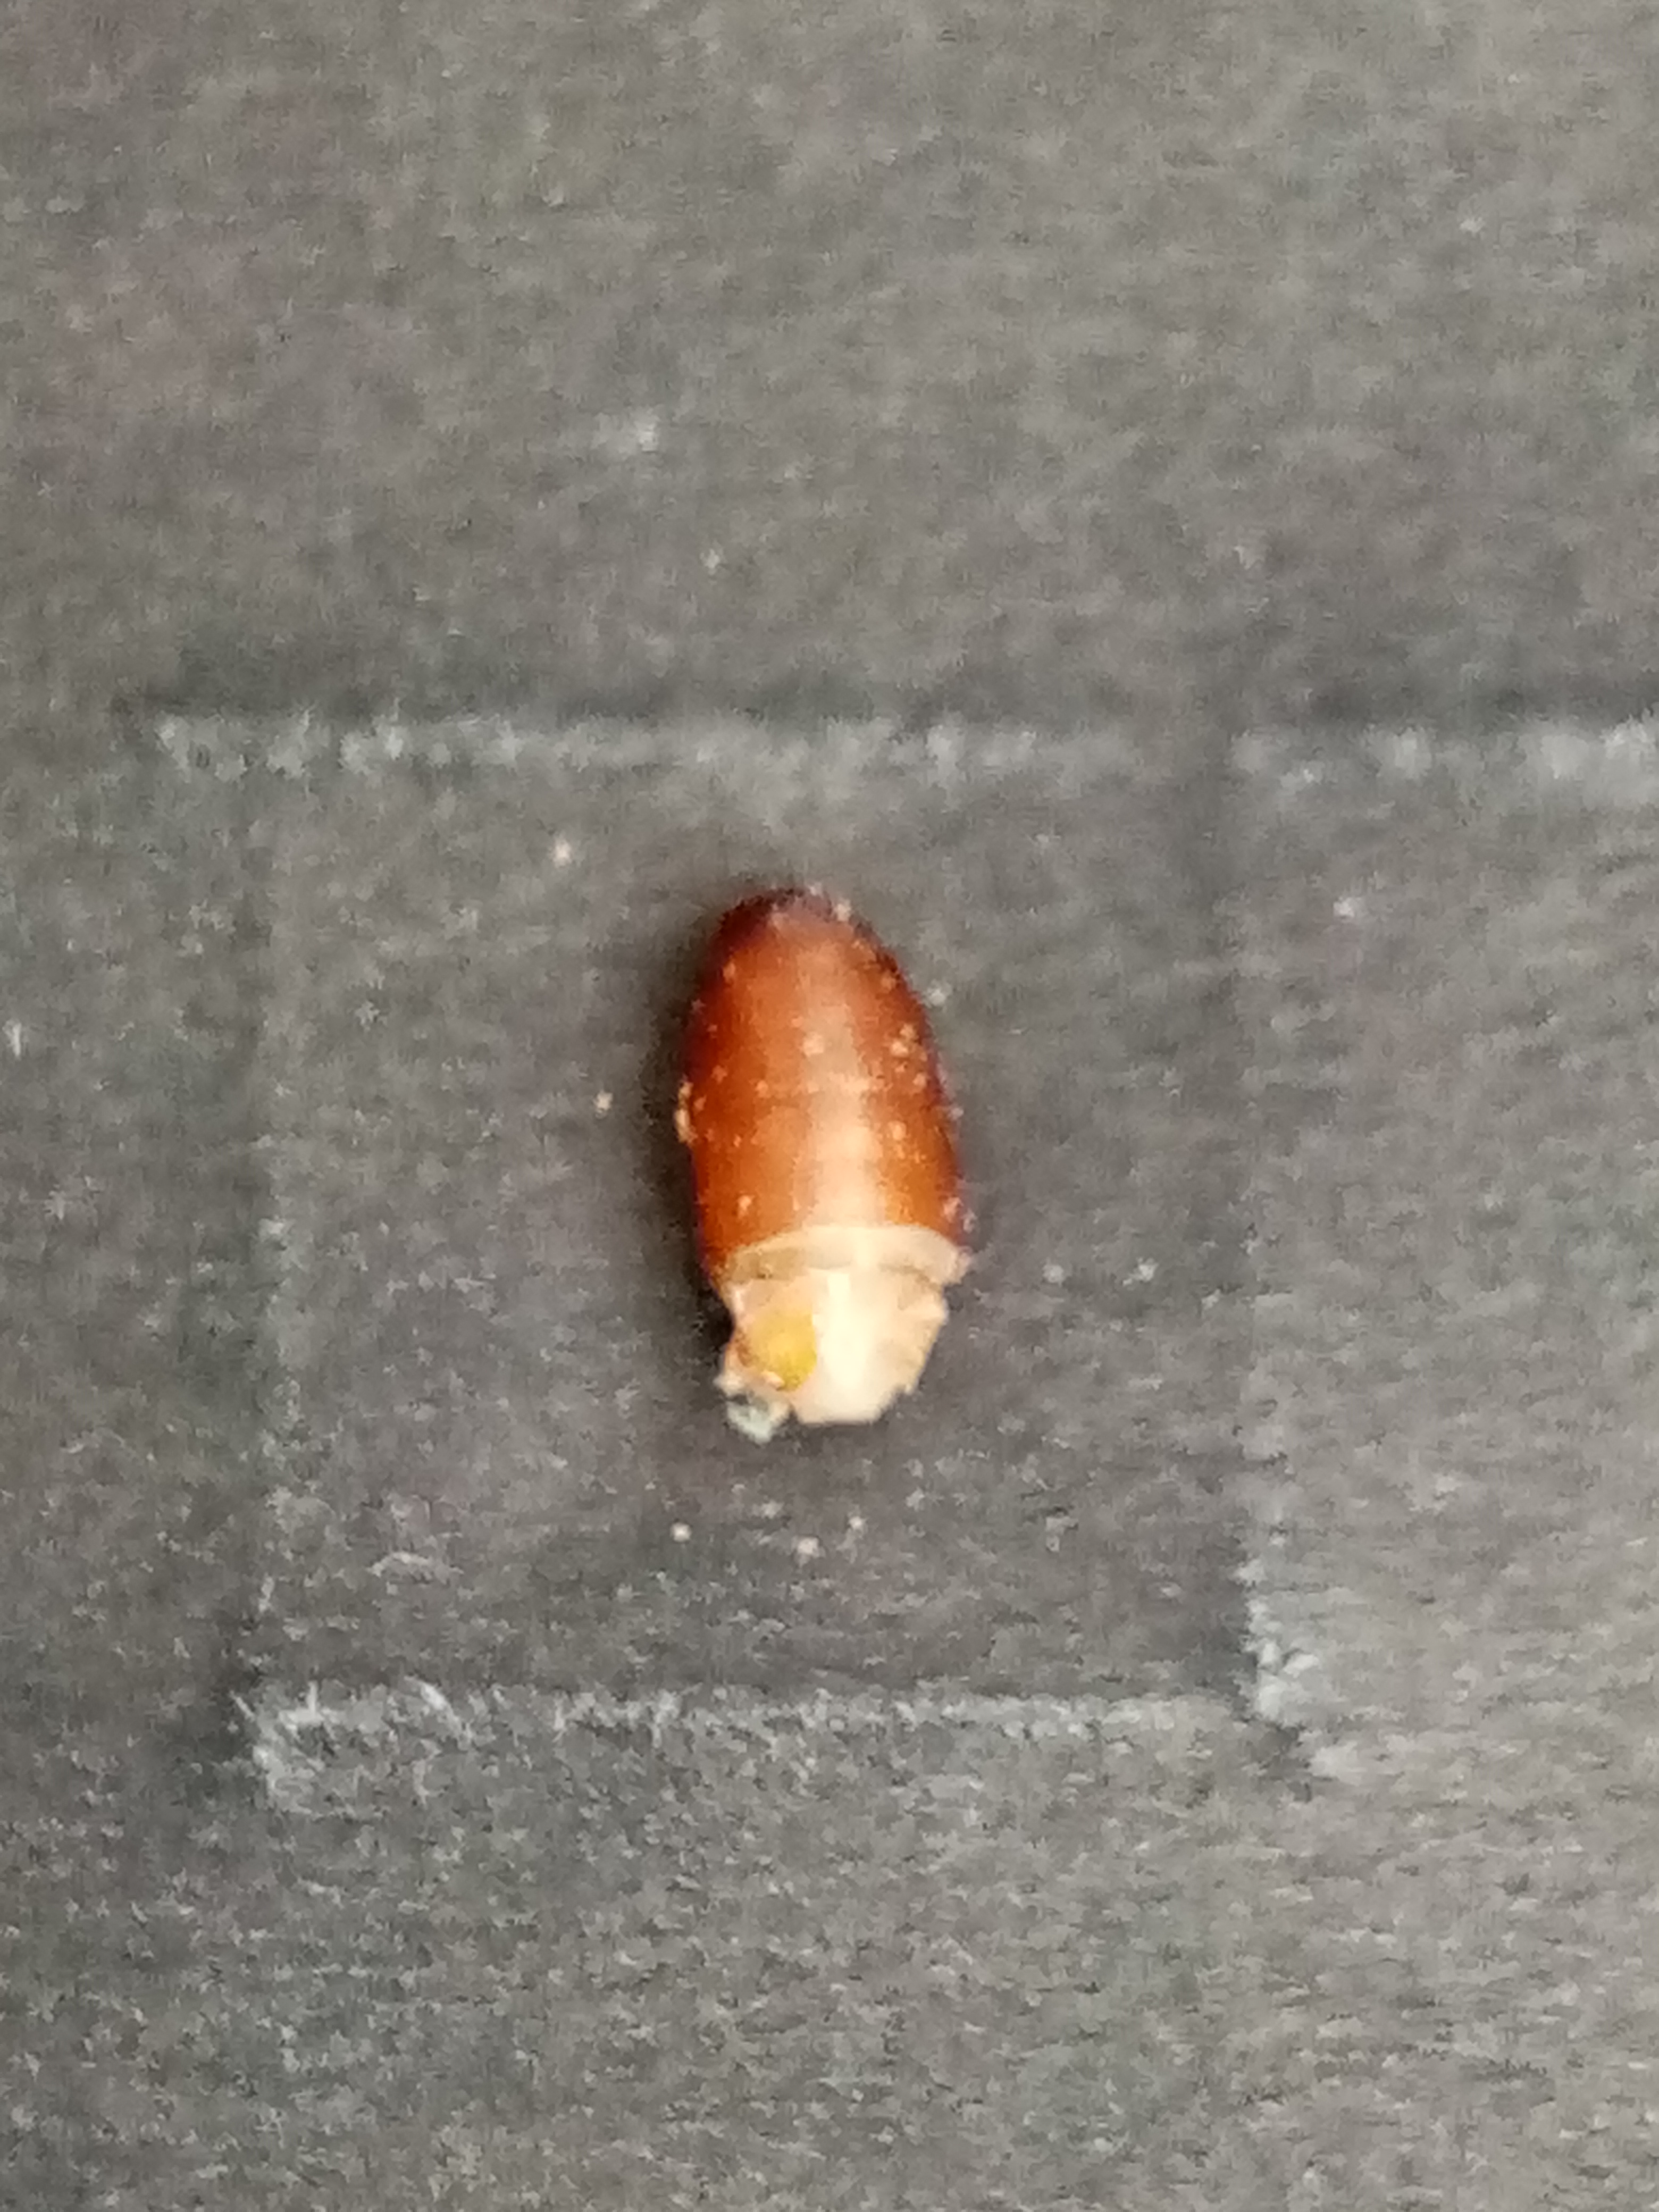pupa: (728, 1270, 951, 1439)
